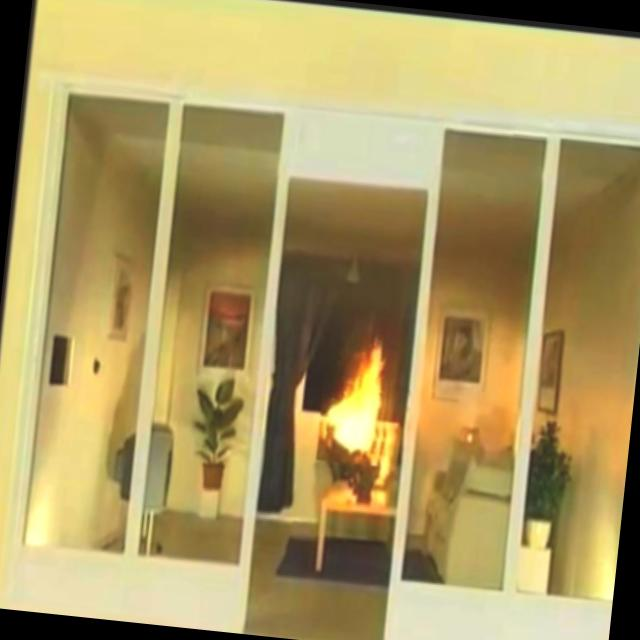fire: (313, 330, 405, 460)
